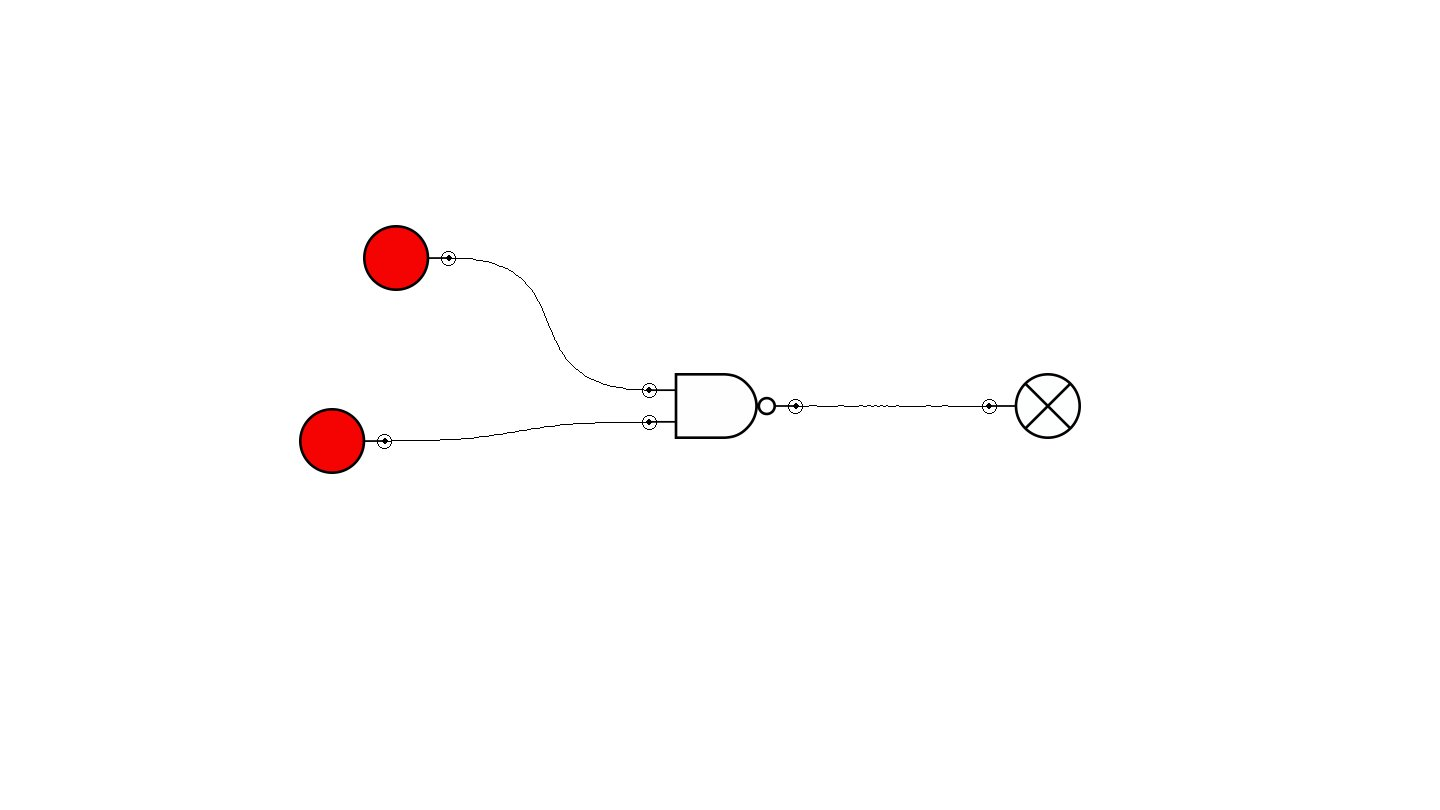bulb: (982, 373, 1081, 439)
nand: (642, 373, 803, 439)
switch_False: (299, 408, 392, 474), (363, 225, 456, 291)
